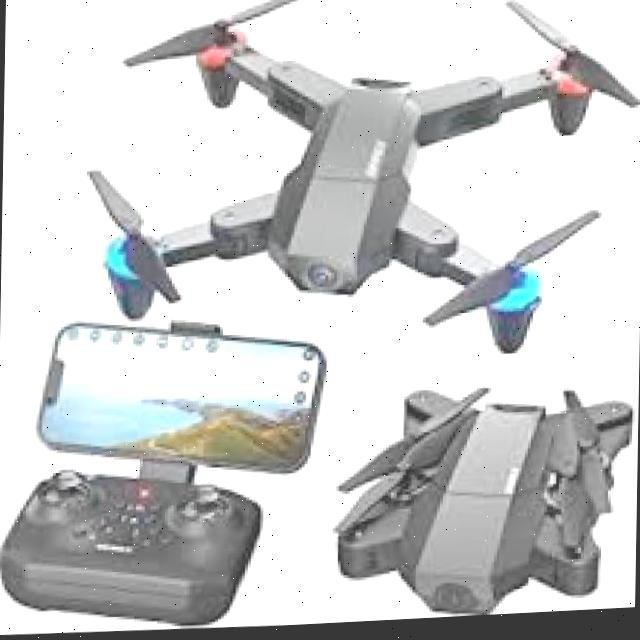drone: (72, 0, 640, 382)
